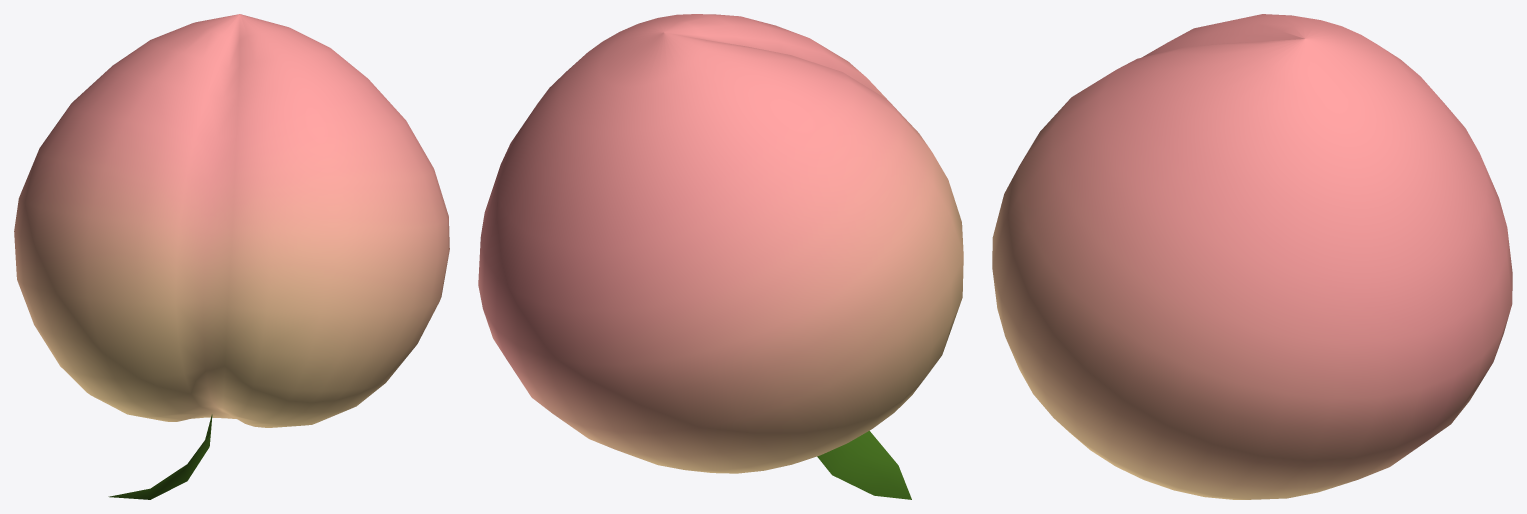
The model's file is Peach.gltf.
The picture shows the model from 3 angles, left to right: view 1: azimuth 30°, elevation 25°; view 2: azimuth 150°, elevation 25°; view 3: azimuth 270°, elevation 25°; orthographic projection. The views are drawn at different scales.
Visible parts, largest first — view 1: Peach; view 2: Peach; view 3: Peach.
Boxes of the visible parts, x1,y1,x2,y2 form: Peach: (14, 14, 449, 499); Peach: (478, 14, 963, 499); Peach: (992, 14, 1512, 499).
Bounding box in the file's own units: 0.9049 × 0.9473 × 0.9024.
Materials: 1 (1 with a texture image).
